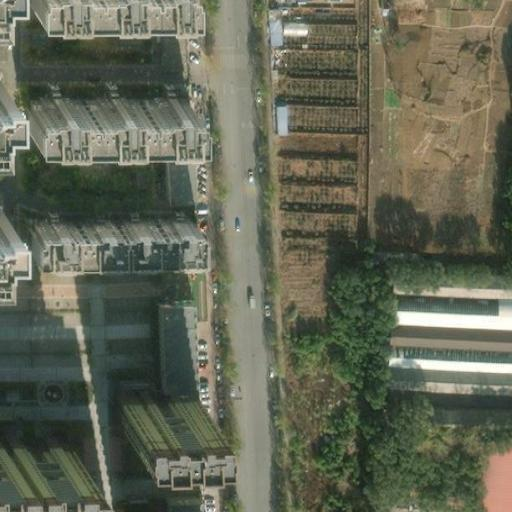building: (13, 82, 178, 120), (19, 195, 184, 226), (452, 429, 512, 512), (150, 293, 186, 386), (0, 450, 79, 486), (119, 401, 200, 436), (416, 390, 512, 419), (152, 145, 186, 195), (262, 11, 349, 29), (272, 99, 289, 132)
